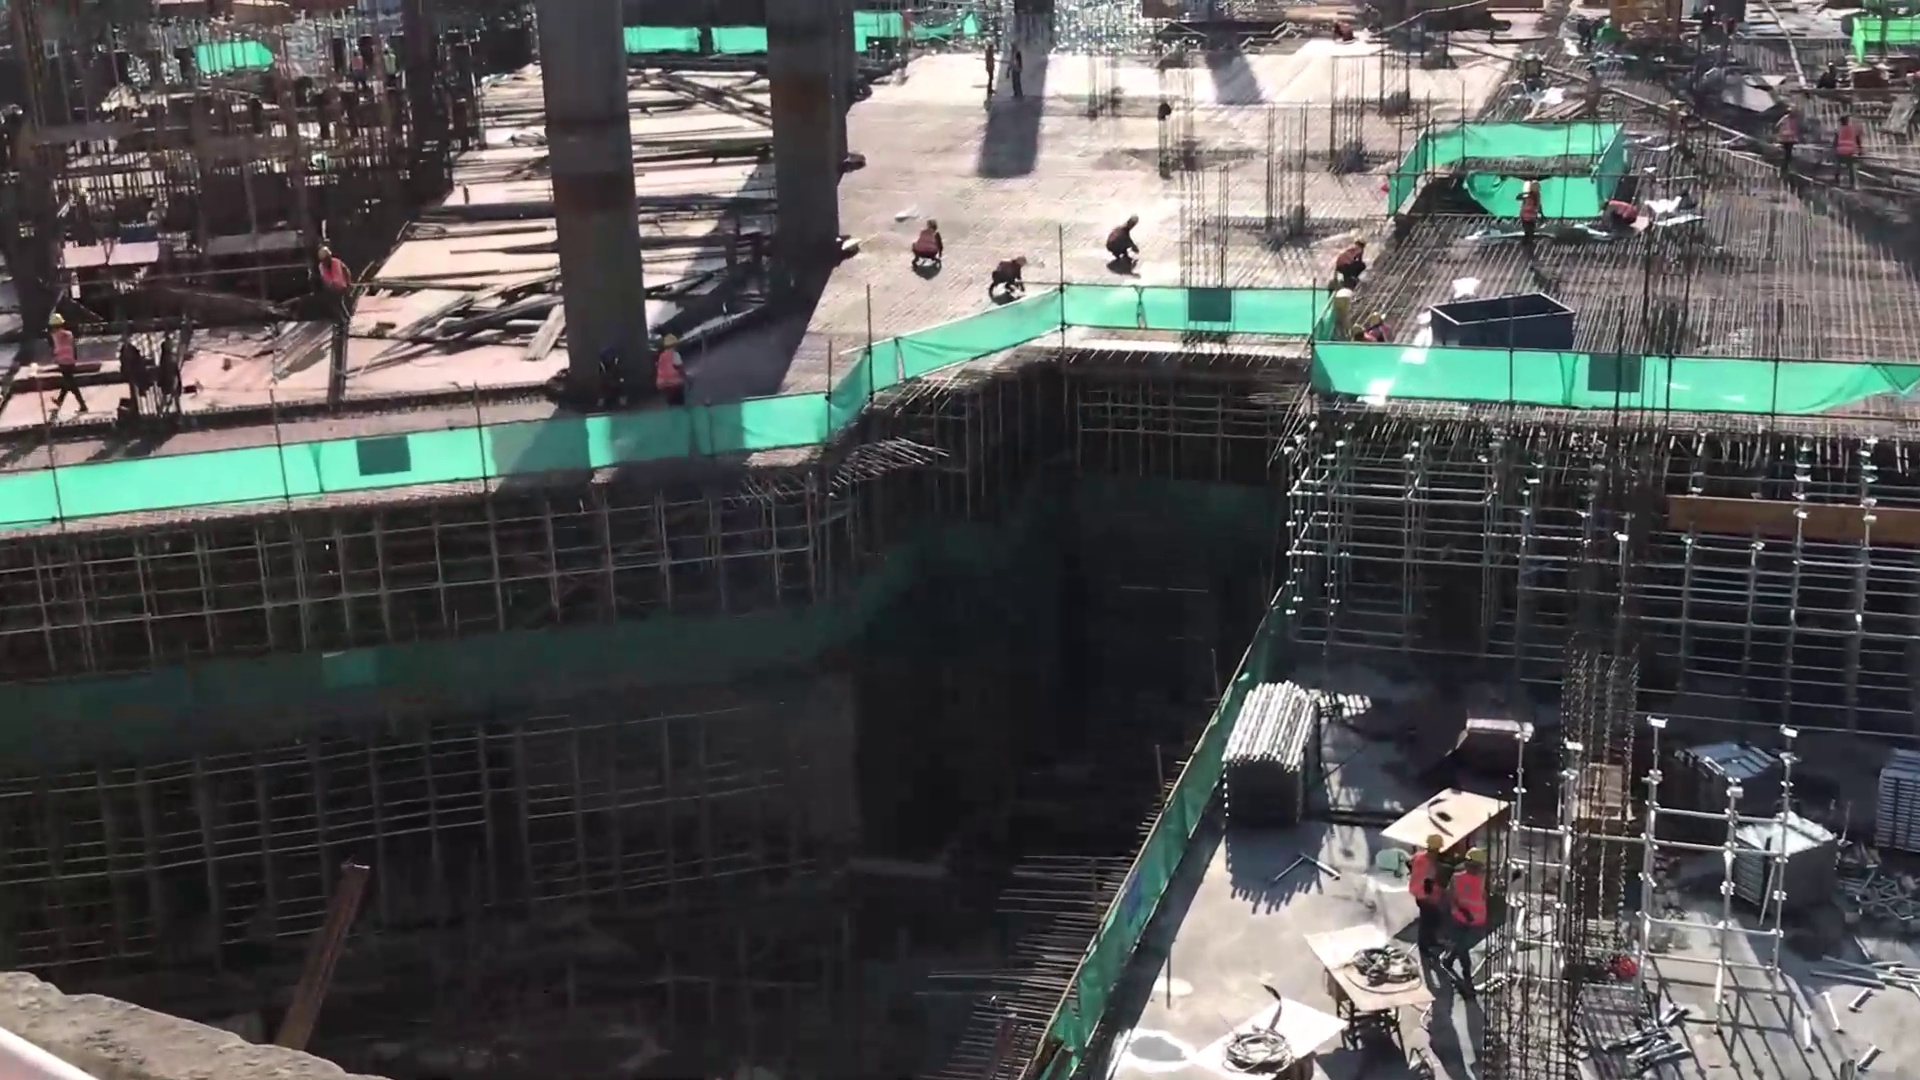person: (1394, 827, 1444, 958), (1455, 845, 1486, 987), (47, 308, 82, 408), (313, 241, 358, 316), (652, 329, 688, 399), (1832, 111, 1861, 193), (1511, 180, 1544, 250), (1101, 212, 1144, 265), (1774, 103, 1802, 173), (911, 216, 947, 272), (1335, 238, 1375, 285), (989, 251, 1028, 295), (1600, 189, 1638, 234), (1005, 41, 1028, 100), (1582, 62, 1605, 120), (981, 39, 997, 99)
